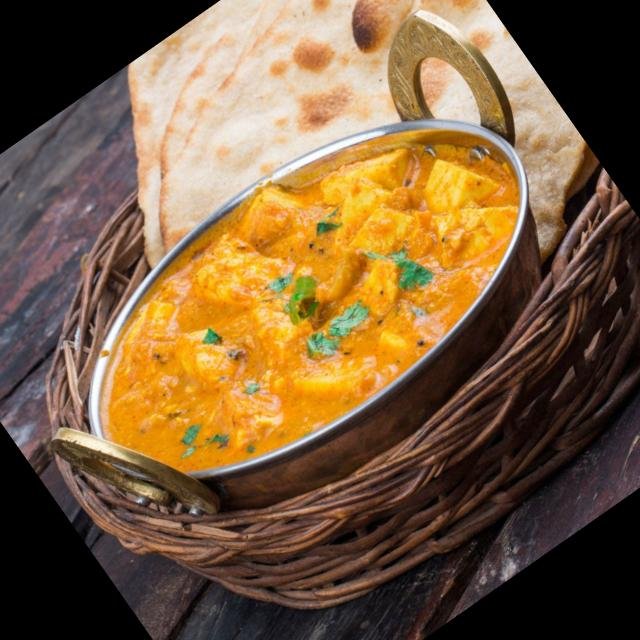ShahiPaneer: (50, 68, 573, 537)
